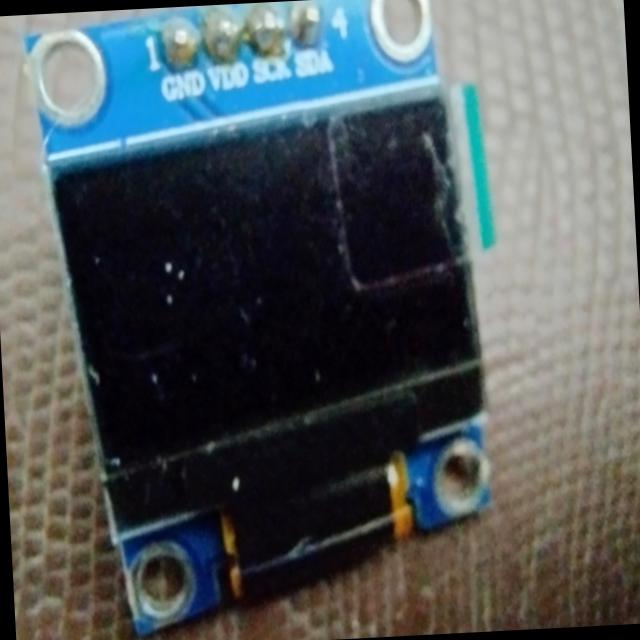oled: (14, 0, 524, 640)
